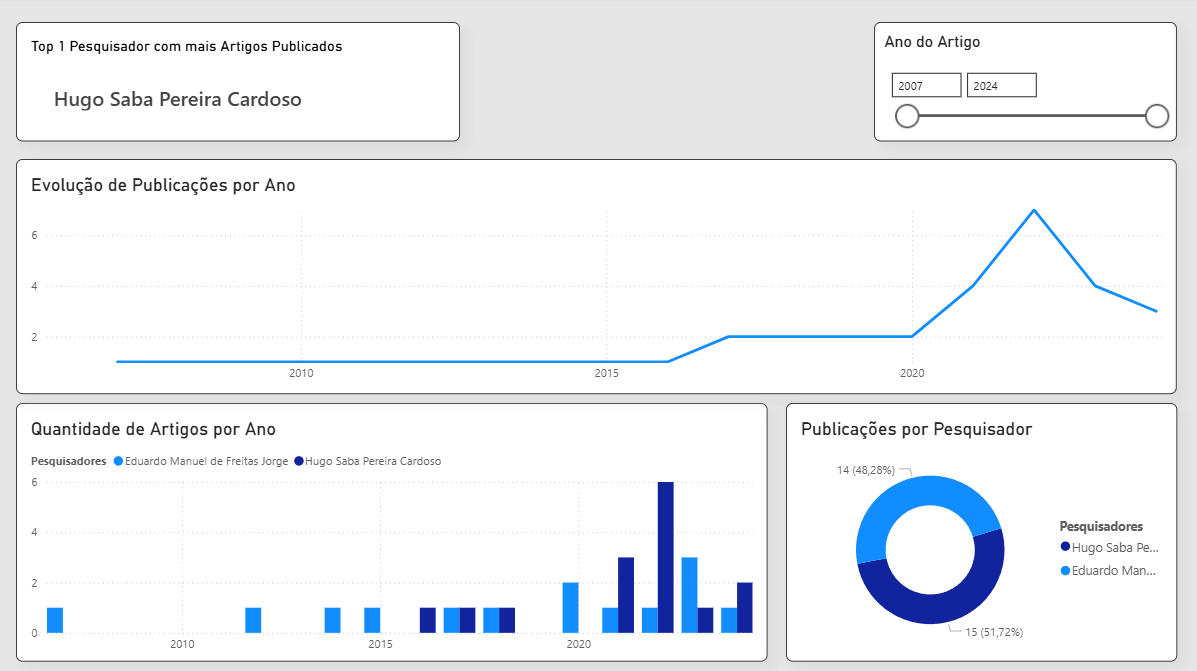

The page's visual inventory and layout, read from the dashboard file:
{"tool":"powerbi","page":{"name":"Página 1","canvas":[1280,720],"ordinal":0},"visuals":[{"type":"clusteredColumnChart","title":"Quantidade de Artigos por Ano","fields":{"Category":["producoes.ano_artigo"],"Y":["CountNonNull(producoes.producoes_id)"],"Series":["pesquisadores.nome_pesquisador"]},"box":[23.4,431.6,799.5,275.3],"z":0},{"type":"slicer","title":"Ano do Artigo","fields":{"Values":["producoes.ano_artigo"]},"box":[935.5,26.6,322.1,126.5],"z":1},{"type":"cardVisual","title":"Top 1 Pesquisador com mais Artigos Publicados","fields":{"Data":["medidas.Pesquisador Top Artigos"]},"box":[23.4,26.6,472,126.5],"z":3},{"type":"lineChart","title":"Evolução de Publicações por Ano","fields":{"Y":["Count(producoes.producoes_id)"],"Category":["producoes.ano_artigo"]},"box":[23.4,172.2,1234.3,249.8],"z":4},{"type":"donutChart","title":"Publicações por Pesquisador","fields":{"Category":["pesquisadores.nome_pesquisador"],"Y":["CountNonNull(producoes.producoes_id)"]},"box":[842,431.6,415.7,275.3],"z":5}]}

Visuals, with their boxes in screenshot pixels (x1, y1, x2, y2), scaled from the page's 1280x720 canvas onto the 1197x671 screenshot:
"Quantidade de Artigos por Ano" clusteredColumnChart: x1=22 y1=402 x2=770 y2=659
"Ano do Artigo" slicer: x1=875 y1=25 x2=1176 y2=143
"Top 1 Pesquisador com mais Artigos Publicados" cardVisual: x1=22 y1=25 x2=463 y2=143
"Evolução de Publicações por Ano" lineChart: x1=22 y1=160 x2=1176 y2=393
"Publicações por Pesquisador" donutChart: x1=787 y1=402 x2=1176 y2=659
